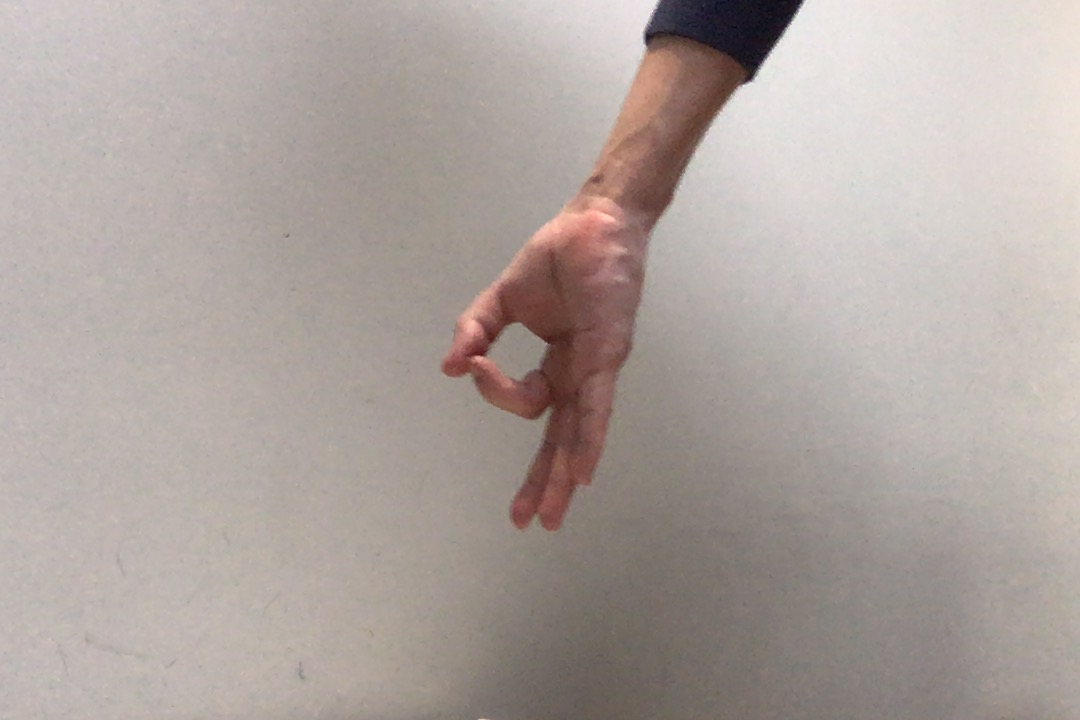oksign: (434, 203, 648, 539)
